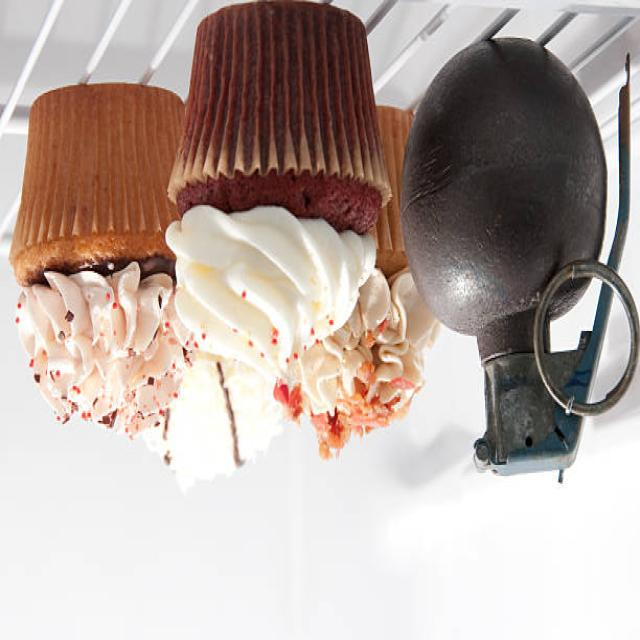grenade: (390, 34, 640, 492)
